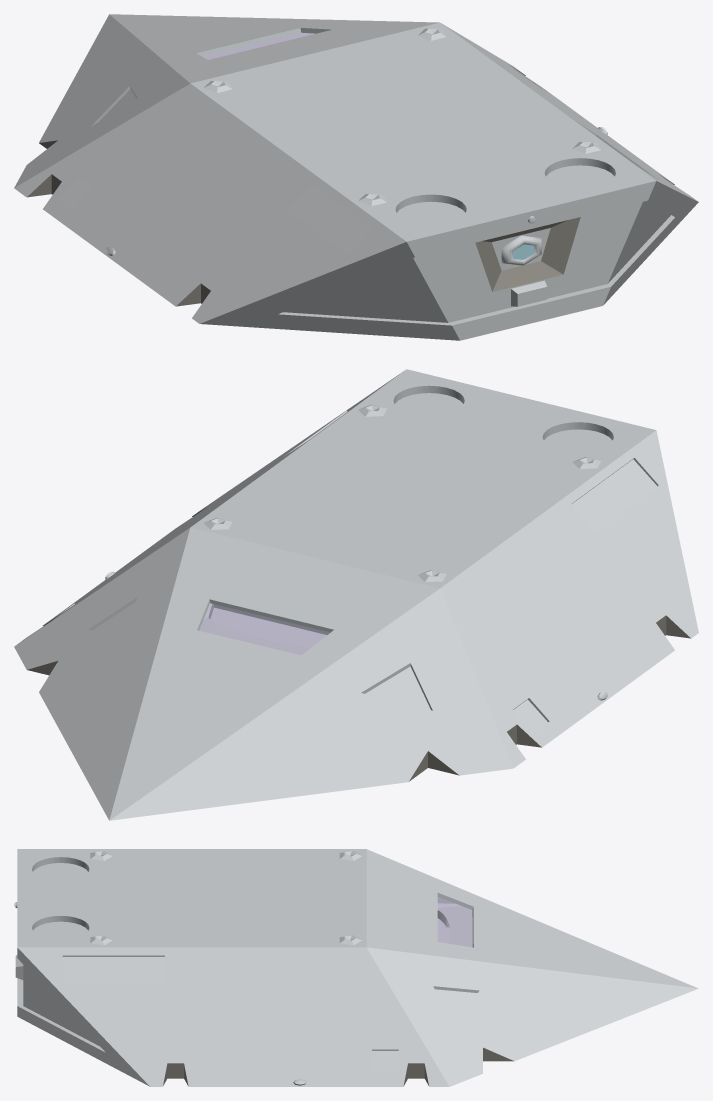
Rendered from lod2_body.dae.
3 views of the same model, one above another, from view 1: azimuth 30°, elevation 25°; view 2: azimuth 150°, elevation 25°; view 3: azimuth 270°, elevation 25° (orthographic). The views are drawn at different scales.
Visible parts, largest first — view 1: lod2_body, lod2_inside, wins, cockpit; view 2: lod2_body, wins, cockpit, lod2_inside; view 3: lod2_body, wins, cockpit, lod2_inside.
Boxes of the visible parts, x1=… form: lod2_body: x1=14, y1=14, x2=698, y2=340; lod2_inside: x1=27, y1=65, x2=674, y2=306; wins: x1=105, y1=28, x2=607, y2=253; cockpit: x1=202, y1=32, x2=315, y2=59; lod2_body: x1=14, y1=369, x2=698, y2=820; wins: x1=105, y1=572, x2=607, y2=698; cockpit: x1=199, y1=603, x2=330, y2=655; lod2_inside: x1=27, y1=506, x2=690, y2=781; lod2_body: x1=15, y1=849, x2=698, y2=1086; wins: x1=14, y1=893, x2=473, y2=1084; cockpit: x1=437, y1=897, x2=472, y2=947; lod2_inside: x1=163, y1=1047, x2=513, y2=1085.
Bounding box in the file's own units: 33.6 × 49.44 × 8.58.
